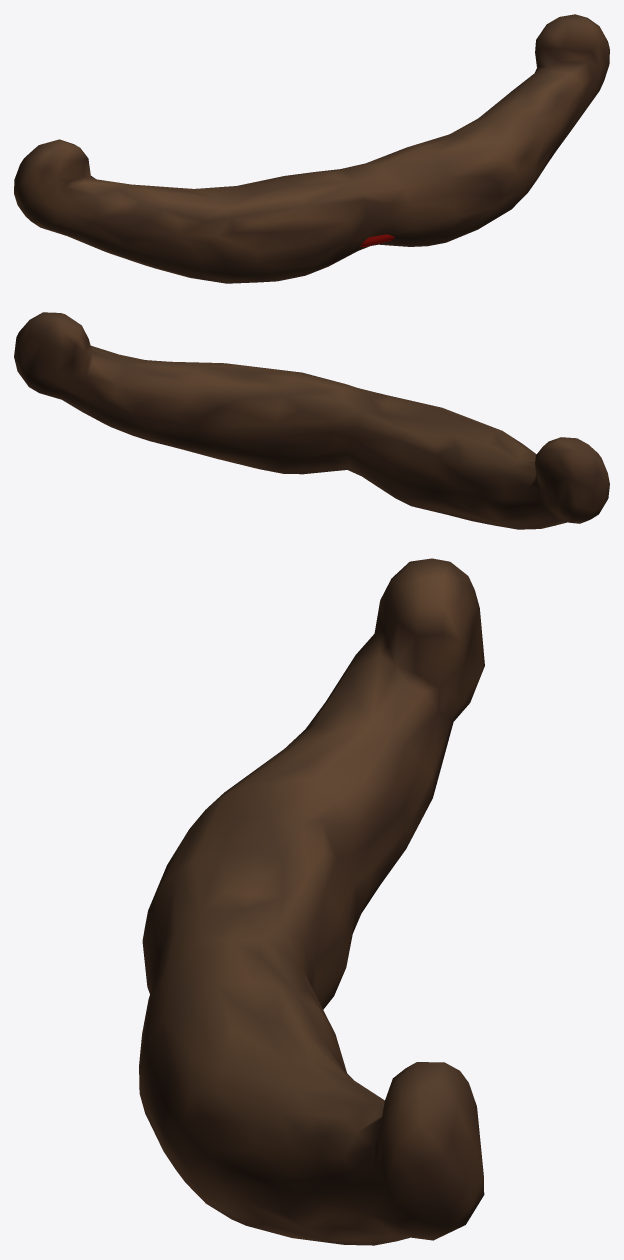
Rendered from riamep.glb.
3 renders of one model, top to bottom at view 1: azimuth 30°, elevation 25°; view 2: azimuth 150°, elevation 25°; view 3: azimuth 270°, elevation 25°, orthographic. The views are drawn at different scales.
Visible parts, largest first — view 1: Ria; view 2: Ria; view 3: Ria.
Boxes of the visible parts, box(x1,y1,x2,y2) form: Ria: box(14, 14, 609, 283); Ria: box(14, 312, 609, 529); Ria: box(139, 558, 484, 1245).
Size of the model in its own units: 0.1374 by 0.032 by 0.0349.
